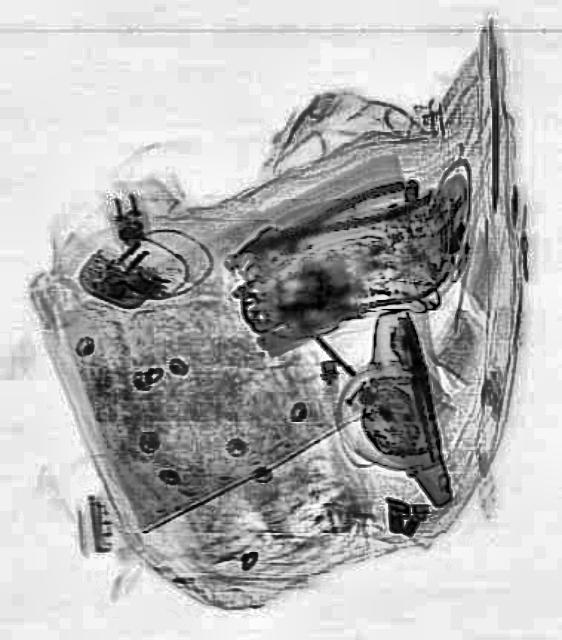Pliers: (232, 166, 432, 272)
